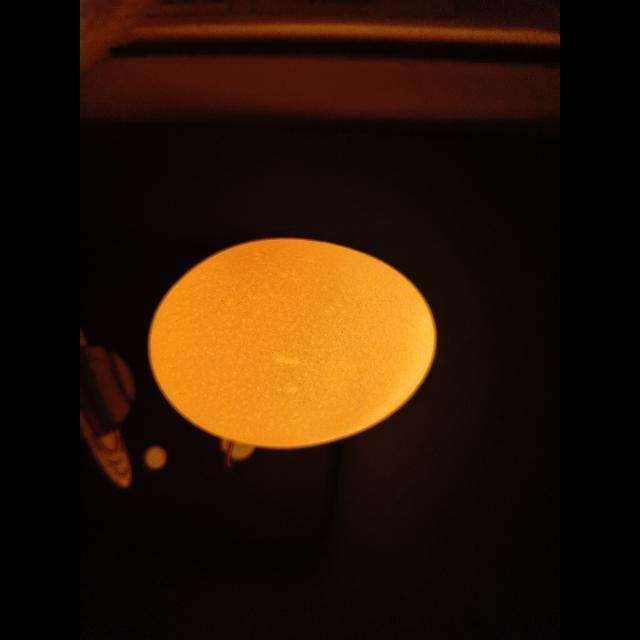AA - Premium: (149, 239, 436, 449)
